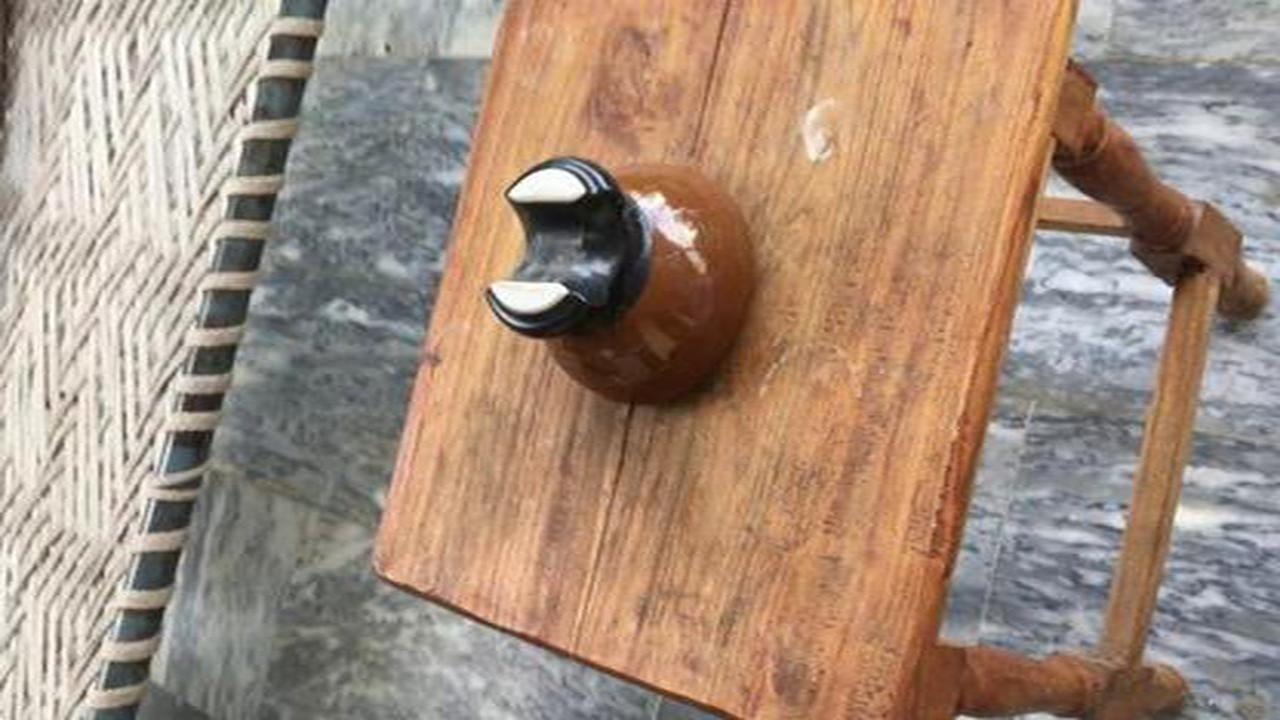insulator_pin: (465, 146, 779, 423)
